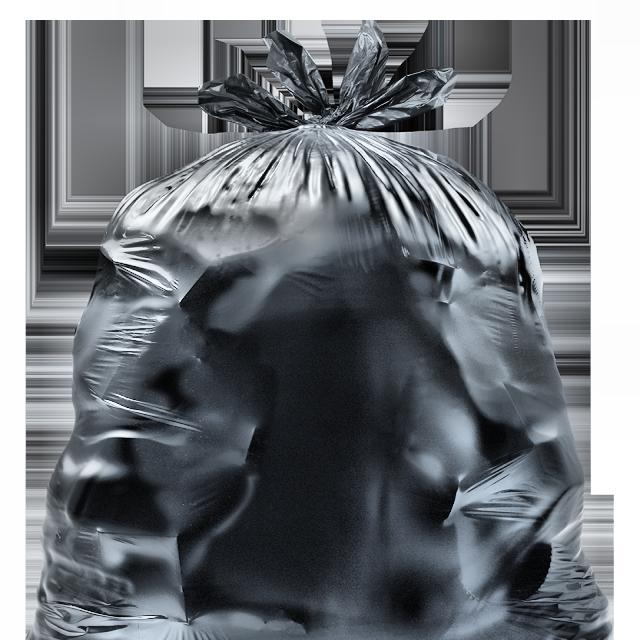Trashbag: (28, 125, 583, 640)
